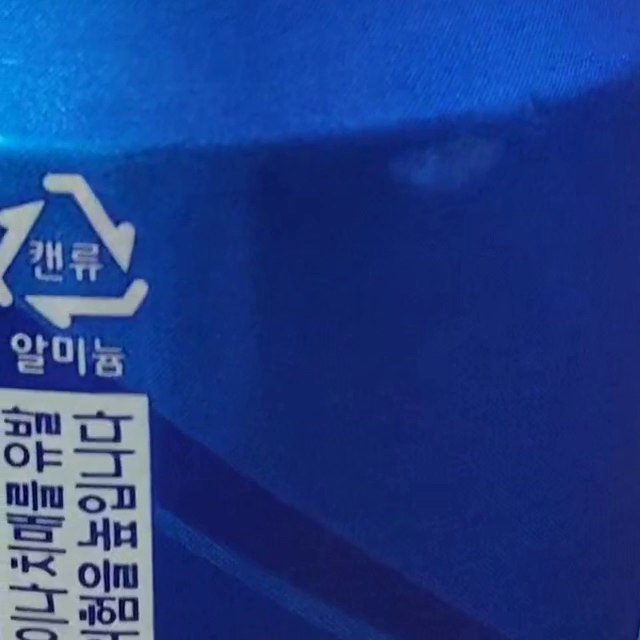Can: (2, 166, 145, 326)
